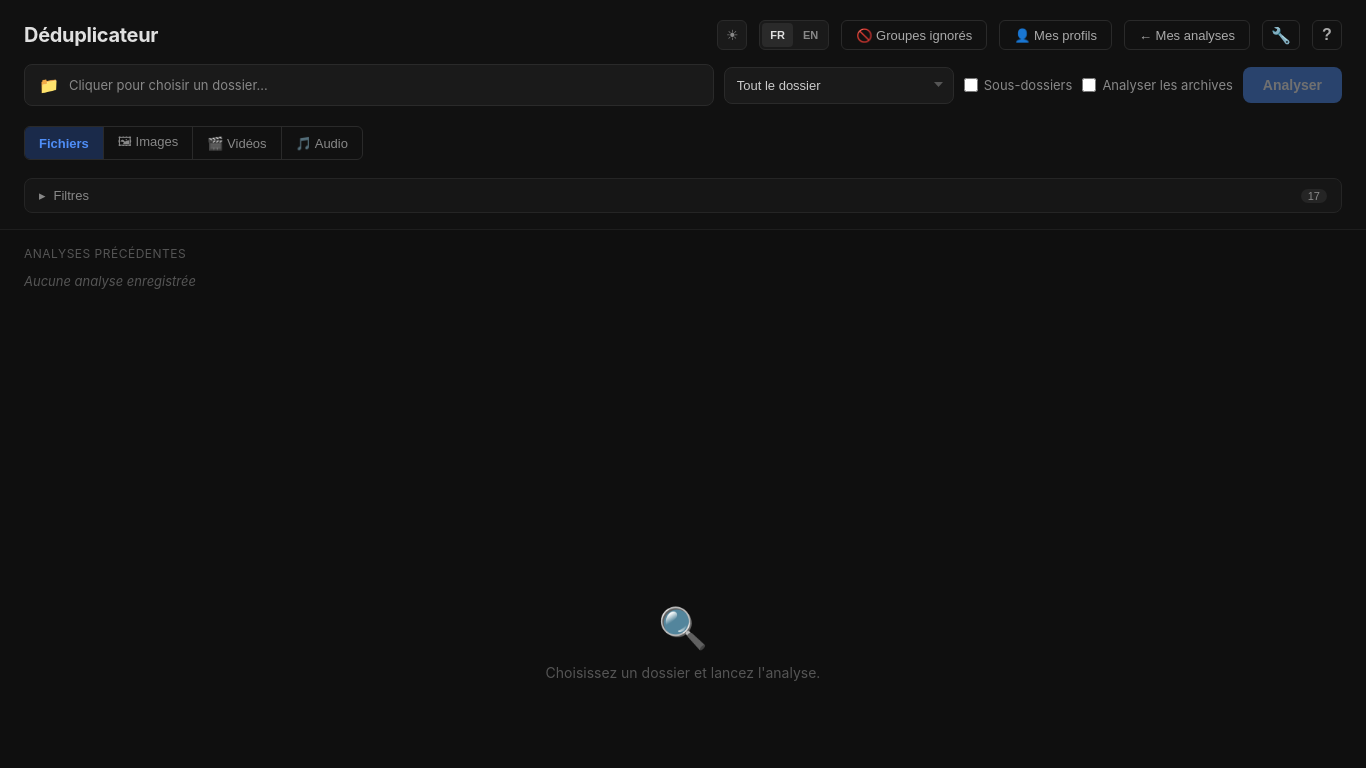
Test case: S - Scénarios complets (3 modes × 4 types × 2 résultats = 24) › compare_folder / files / true
Click the text "Cliquer pour choisir un dossier…" at {"x": 168, "y": 85}, box [69,77,268,93]
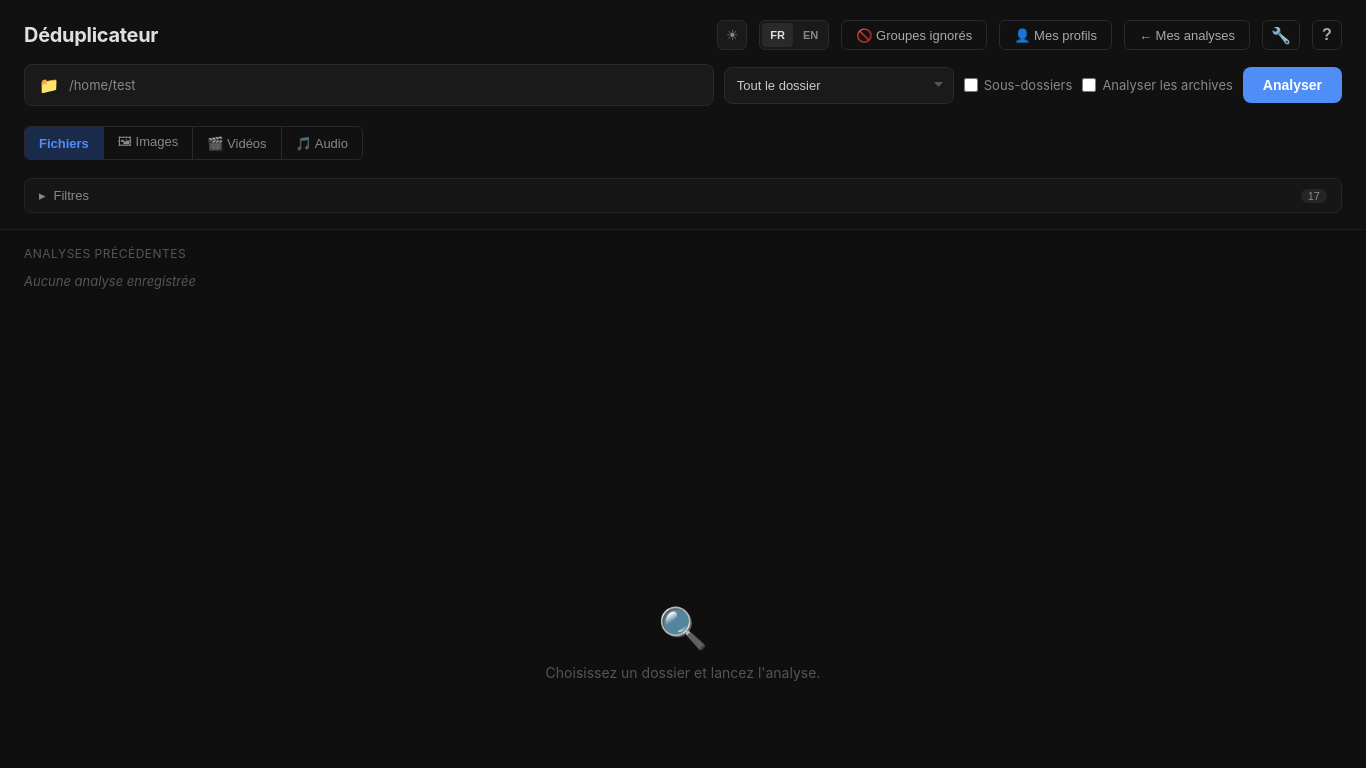
Check: the text "/home/test" is shown, box [69,77,136,93]
Select "Comparer avec un autre dossier" in the dropdown at {"x": 839, "y": 85}, box [724,66,954,104]
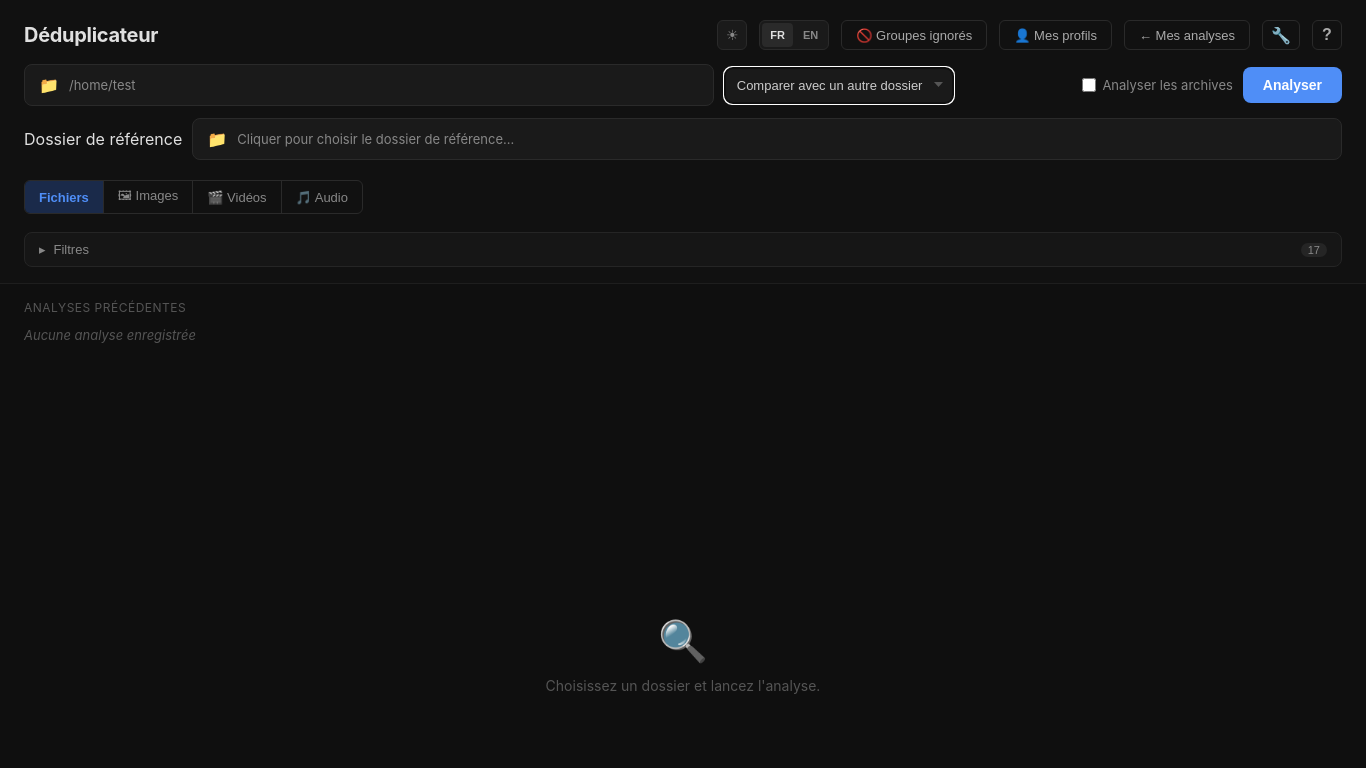
Click the element with test id "secondary-folder-input" at {"x": 767, "y": 139}, box [192,118,1342,160]
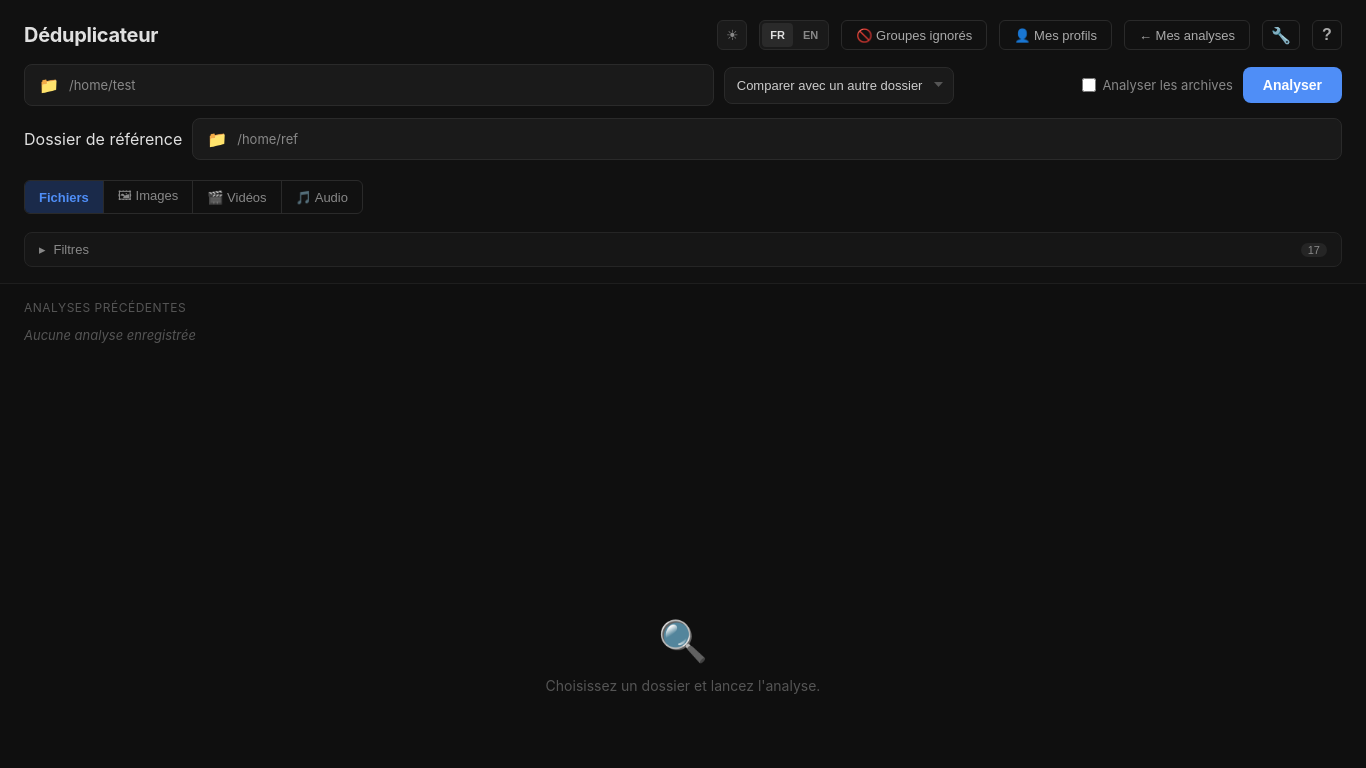
Check: the text "/home/ref" is shown, box [237,131,298,147]
Click the button "Analyser" at {"x": 1292, "y": 85}, box [1243,67,1342,103]
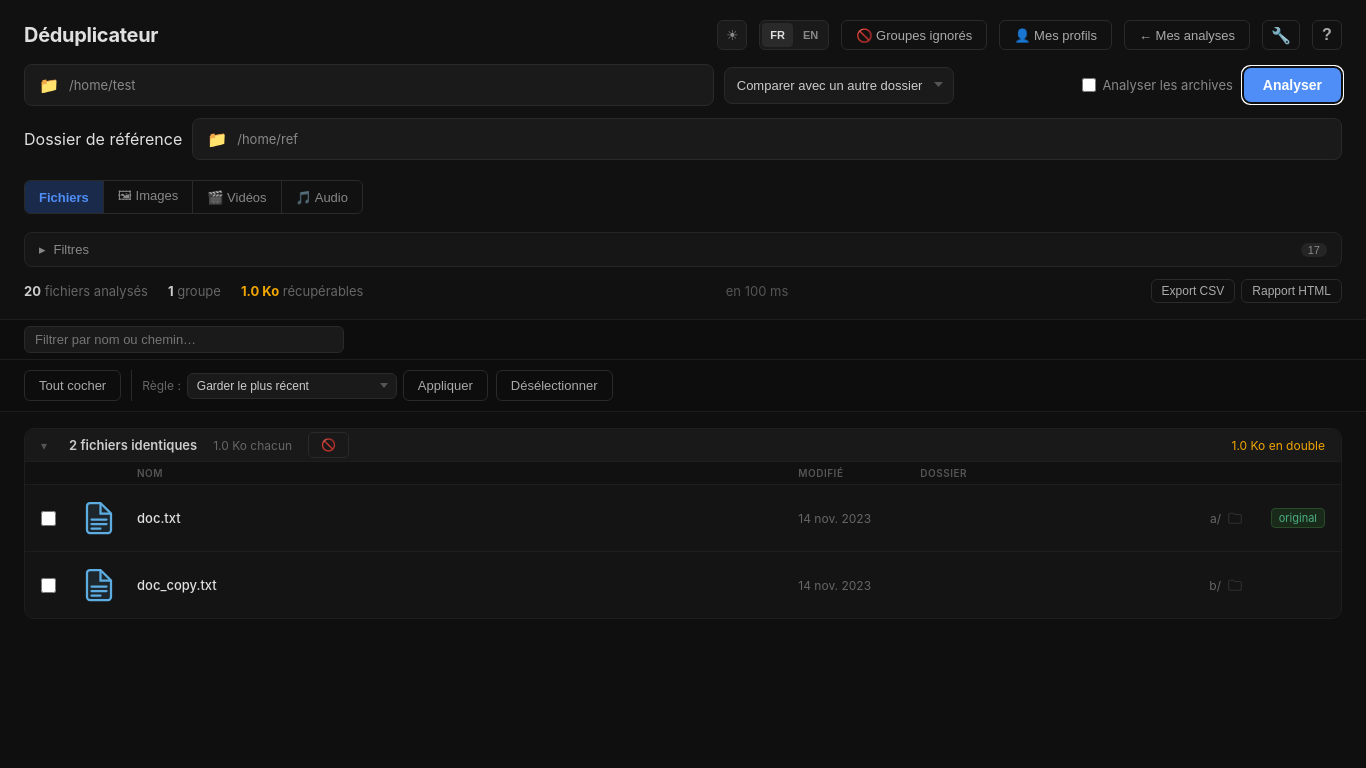
Check: the element with test id "stats-row" is shown, box [24,279,1342,303]
Check: the text "2 fichiers identiques" is shown, box [69,437,197,453]
